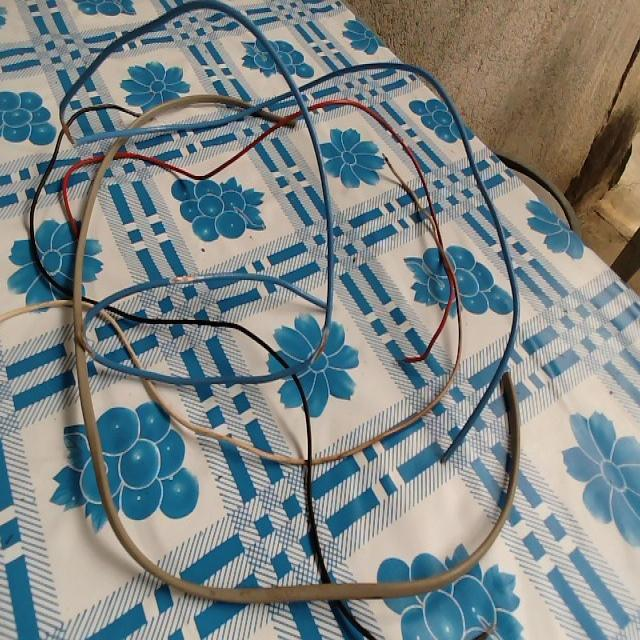-: (75, 322, 101, 362), (310, 324, 333, 365), (166, 271, 199, 289), (57, 118, 77, 146)
